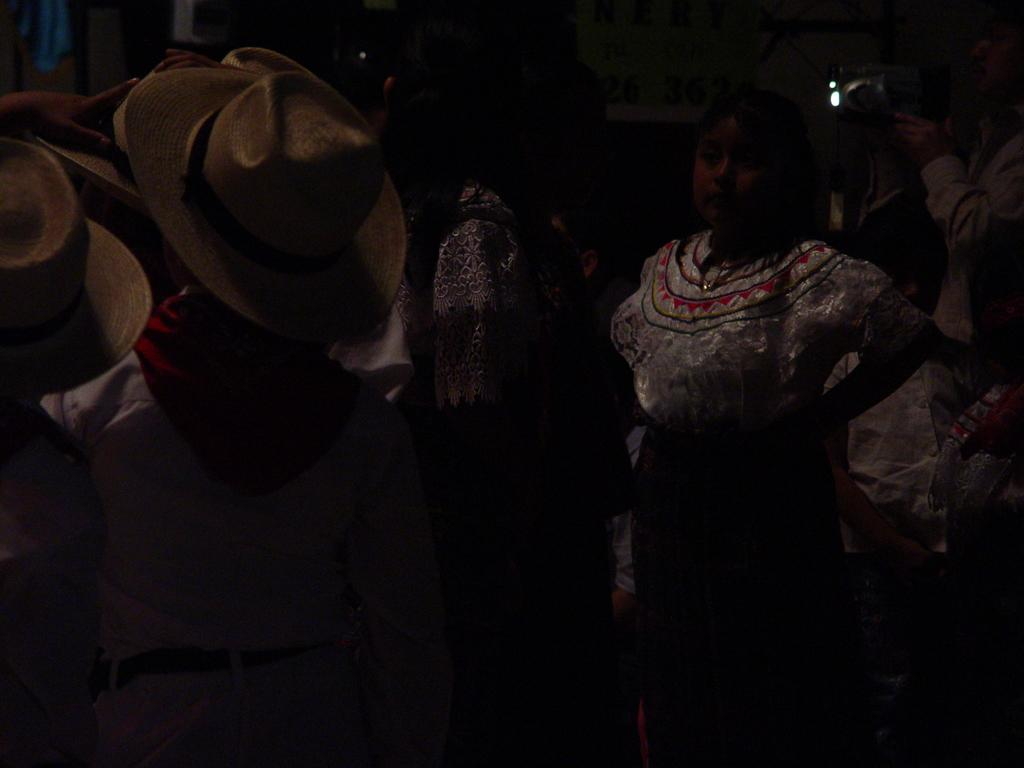Hat: (122, 67, 412, 343), (36, 40, 301, 198), (0, 134, 152, 396)
